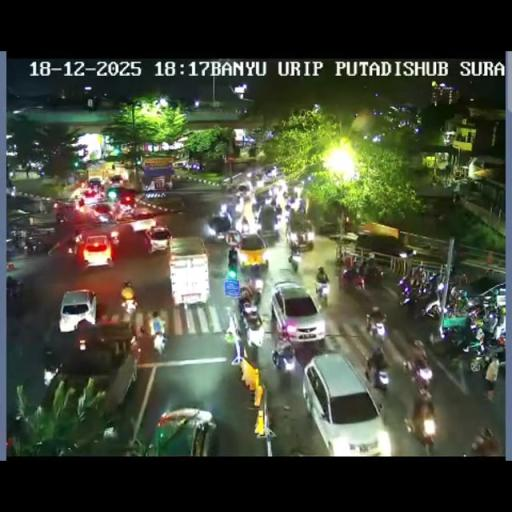Car: (42, 324, 138, 413), (302, 352, 386, 453), (269, 280, 323, 346), (147, 406, 218, 456), (443, 275, 505, 330), (168, 238, 210, 304), (354, 231, 416, 269), (58, 288, 97, 334), (235, 233, 269, 273), (79, 234, 113, 270), (140, 193, 186, 215), (286, 217, 314, 253), (204, 214, 233, 244), (143, 224, 172, 253), (122, 210, 158, 233), (106, 186, 138, 206), (89, 203, 116, 224), (80, 188, 103, 206), (235, 181, 252, 196), (262, 166, 278, 181), (88, 177, 102, 188), (110, 174, 124, 184)
Motorcycle: (466, 337, 503, 377), (406, 405, 438, 451), (402, 278, 438, 317), (428, 324, 463, 362), (97, 426, 138, 456), (406, 358, 434, 392), (470, 426, 500, 455), (42, 344, 62, 386), (272, 340, 294, 370), (340, 266, 366, 291), (245, 318, 265, 350), (366, 315, 388, 343), (252, 194, 275, 220), (370, 363, 390, 391), (24, 234, 50, 254), (363, 266, 385, 288), (283, 192, 305, 214), (120, 295, 138, 321), (152, 327, 168, 356), (6, 277, 24, 302), (314, 280, 330, 307), (492, 309, 506, 339), (409, 264, 425, 288), (412, 339, 428, 363), (130, 334, 142, 364), (451, 270, 469, 289), (242, 302, 258, 321), (73, 230, 84, 256), (6, 237, 20, 257), (288, 249, 299, 272), (275, 210, 288, 229), (334, 249, 344, 268), (354, 254, 364, 272), (240, 218, 250, 234), (344, 254, 354, 270), (220, 179, 230, 194), (110, 230, 119, 246), (56, 211, 66, 225)
